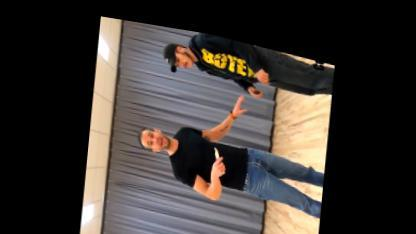knife: (211, 138, 227, 166)
